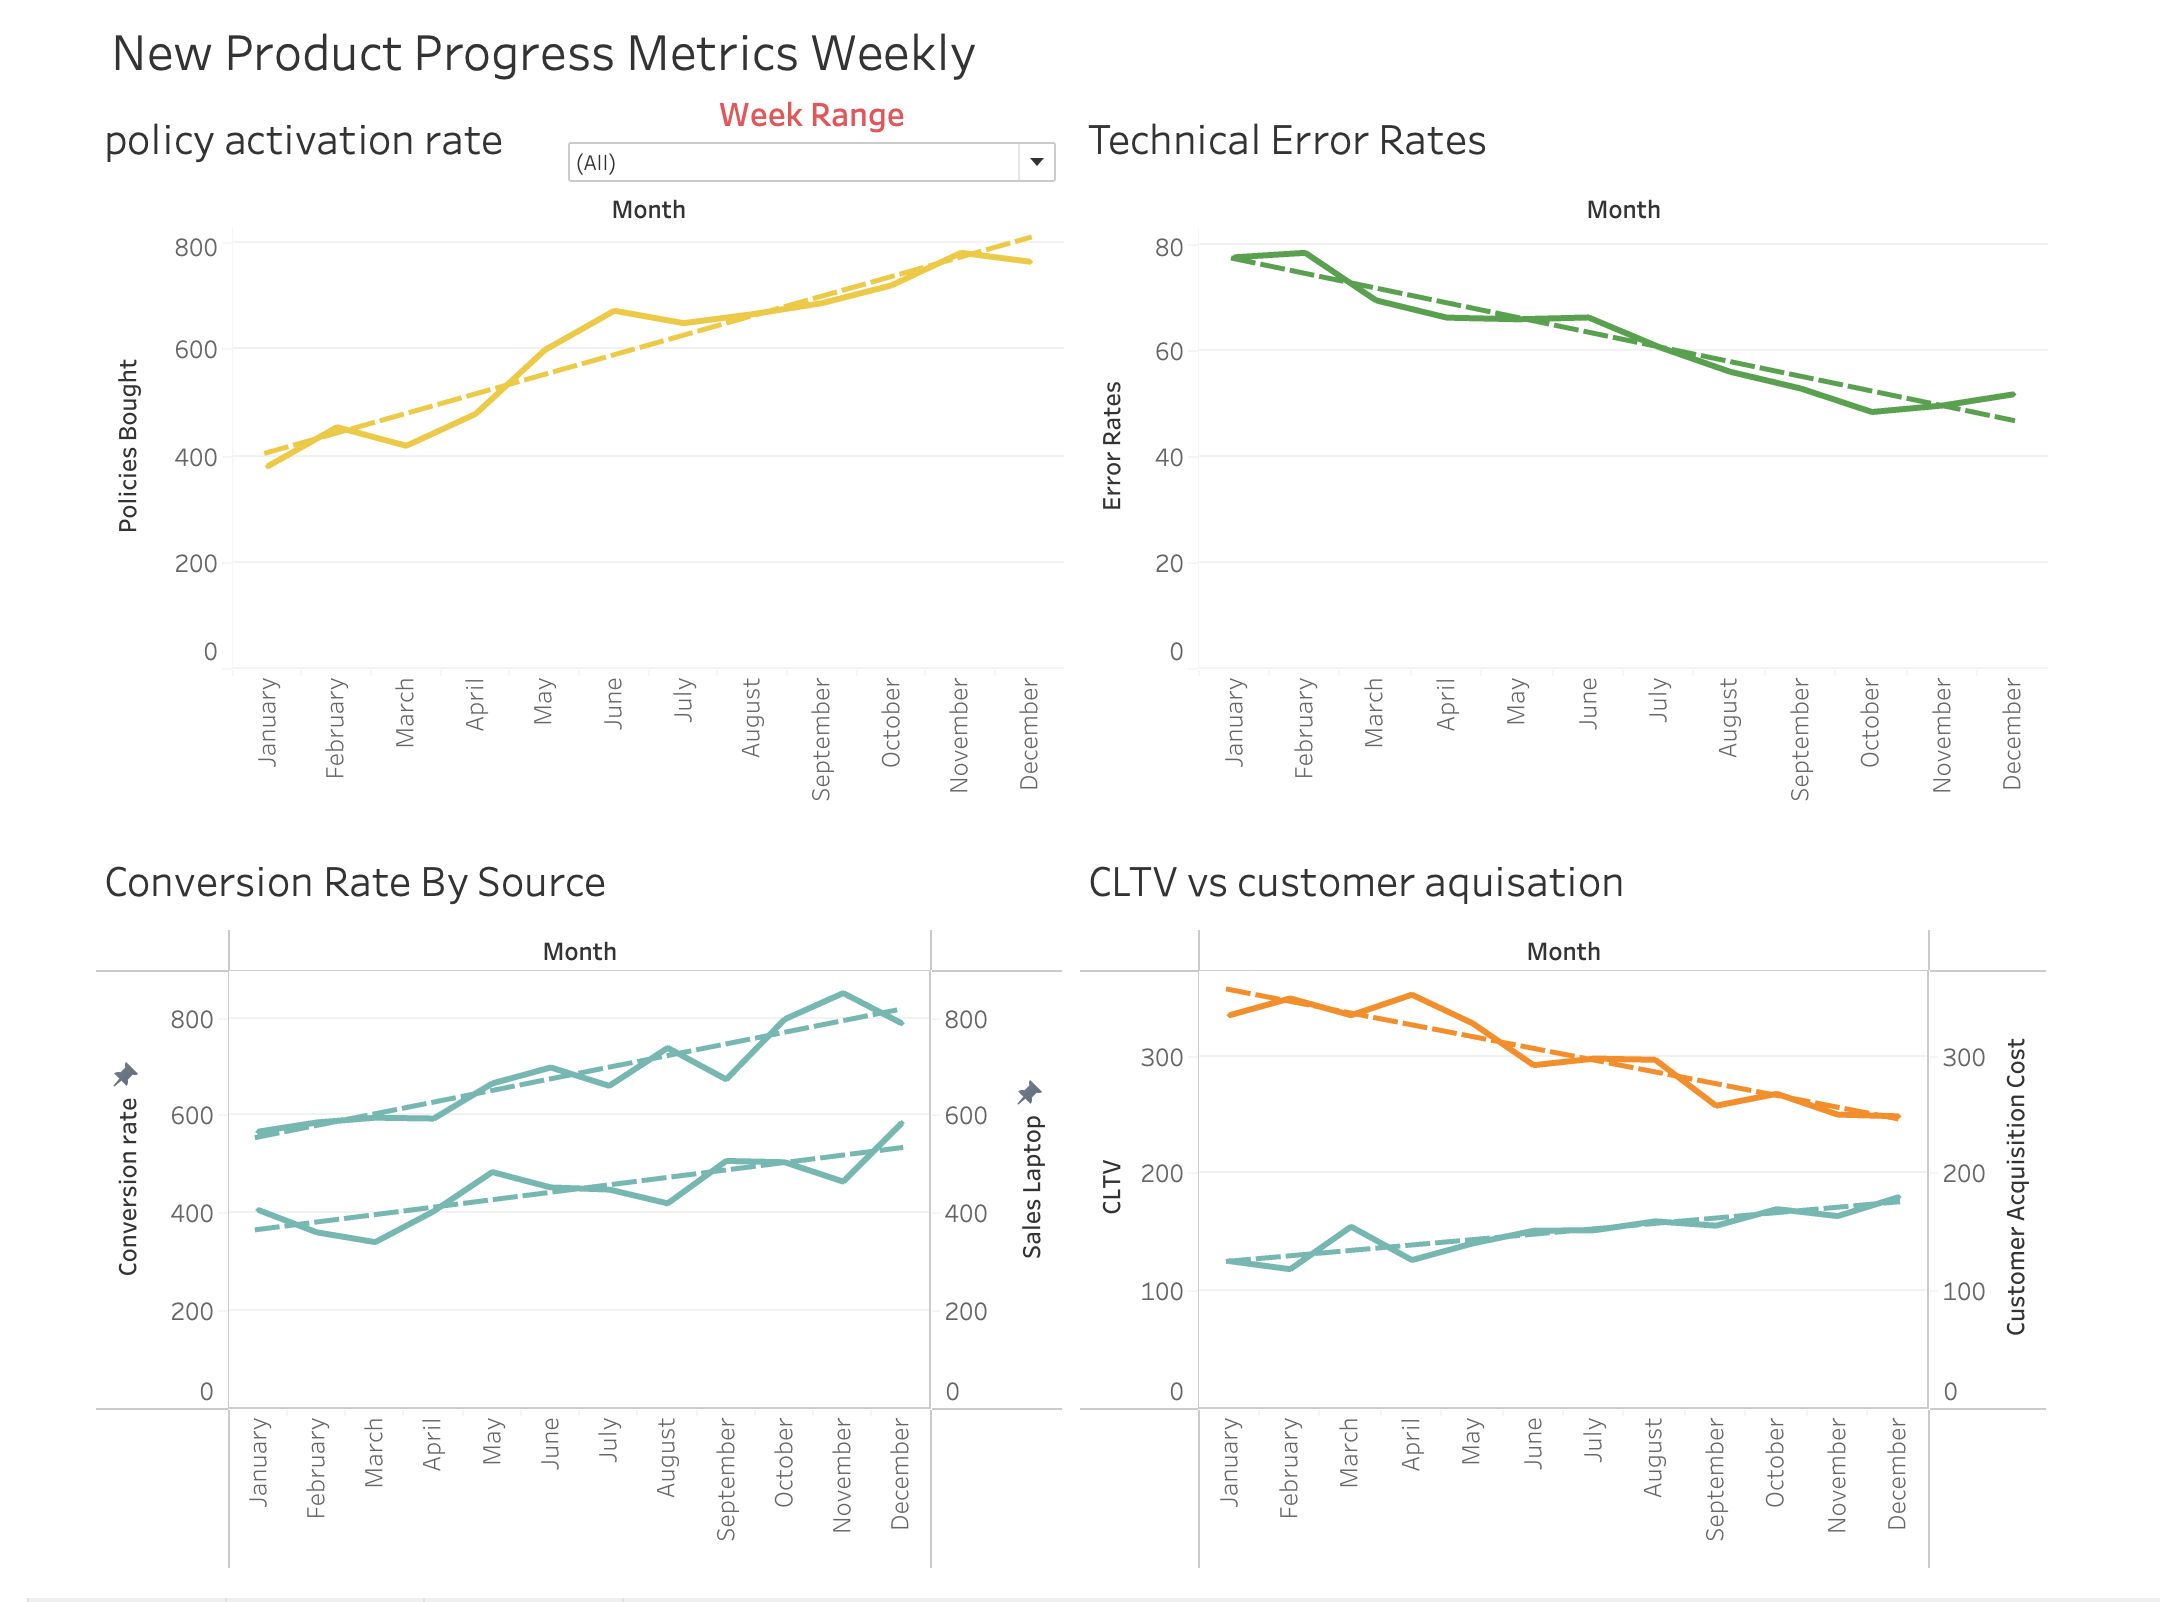

The dashboard page shown, as its layout file describes it:
{"tool":"tableau","page":{"name":"Dashboard 1","canvas":[1000,800],"ordinal":0},"visuals":[{"type":"title","box":[8,8,984,42]},{"type":"filter","title":"policy activation rate","param":"[federated.1ta7iyw1jmxzxk19up82v0m02eq4].[wk:Month:ok]","box":[245,49,250,47]},{"type":"worksheet","title":"policy activation rate","mark":"Line","rows":["Policies Bought"],"cols":["Month"],"box":[8,50,492,371]},{"type":"worksheet","title":"Technical Error Rates","mark":"Automatic","rows":["Error Rates"],"cols":["Month"],"box":[500,50,492,371]},{"type":"worksheet","title":"Conversion Rate By Source","mark":"Automatic","rows":["Sales Mobile","Sales Laptop"],"cols":["Month"],"box":[8,421,492,371]},{"type":"worksheet","title":"CLTV vs customer aquisation","mark":"Automatic","rows":["Average Order Value (copy)_6283647440788766720","Customer Acquisition Cost"],"cols":["Month"],"box":[500,421,492,371]}]}

Visuals, with their boxes in screenshot pixels (x1, y1, x2, y2):
title: left=128, top=55, right=2073, bottom=138
"policy activation rate" filter: left=597, top=136, right=1091, bottom=229
"policy activation rate" worksheet (Line marks): left=128, top=138, right=1101, bottom=871
"Technical Error Rates" worksheet: left=1101, top=138, right=2073, bottom=871
"Conversion Rate By Source" worksheet: left=128, top=871, right=1101, bottom=1601
"CLTV vs customer aquisation" worksheet: left=1101, top=871, right=2073, bottom=1601
